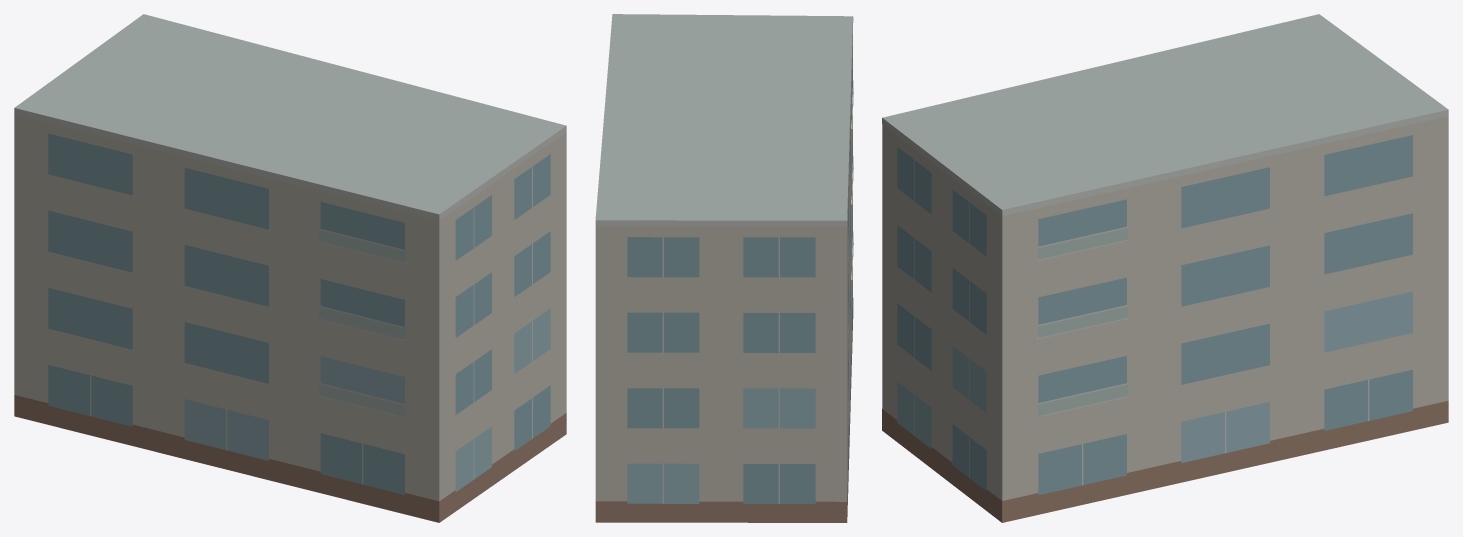
Rendered from survey-upis-32722794.glb.
3 renders of one model, left to right at view 1: azimuth 30°, elevation 25°; view 2: azimuth 150°, elevation 25°; view 3: azimuth 270°, elevation 25°, orthographic. The views are drawn at different scales.
Visible parts, largest first — view 1: survey-upis-32722794.tmp; view 2: survey-upis-32722794.tmp; view 3: survey-upis-32722794.tmp.
Boxes of the visible parts, x1,y1,x2,y2 form: survey-upis-32722794.tmp: (14, 14, 566, 522); survey-upis-32722794.tmp: (595, 14, 853, 522); survey-upis-32722794.tmp: (882, 14, 1448, 522).
Bounding box in the file's own units: 16.4 × 12.2 × 20.03.
